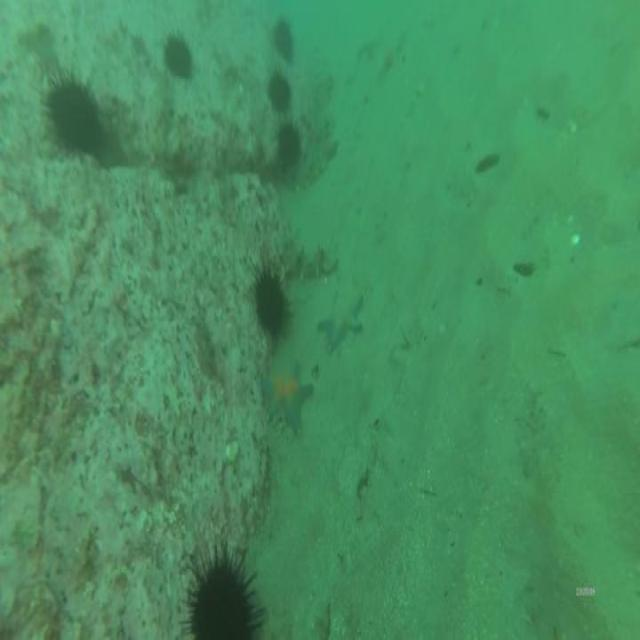echinus: (187, 548, 262, 640), (44, 71, 108, 163), (252, 262, 289, 338), (162, 30, 195, 84), (271, 117, 304, 169), (268, 14, 295, 62), (265, 71, 295, 114)
starfish: (264, 357, 315, 438), (316, 286, 364, 357)
